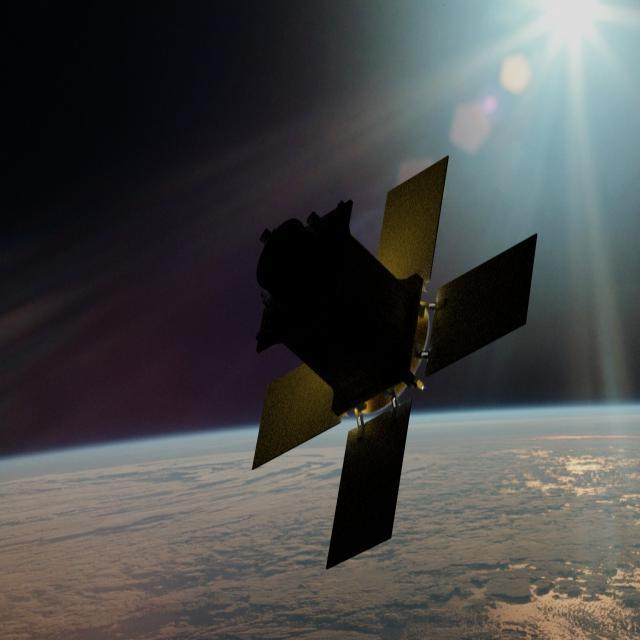satellite: (240, 144, 540, 577)
